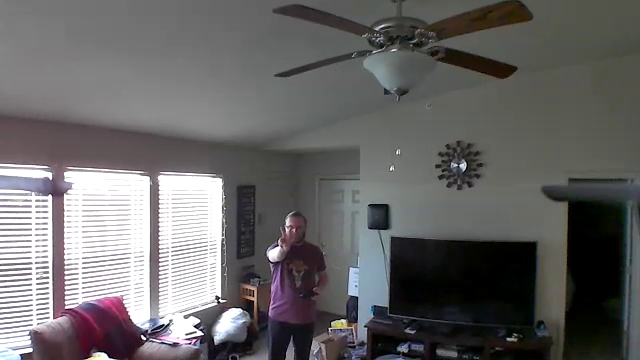peace: (273, 221, 298, 259)
